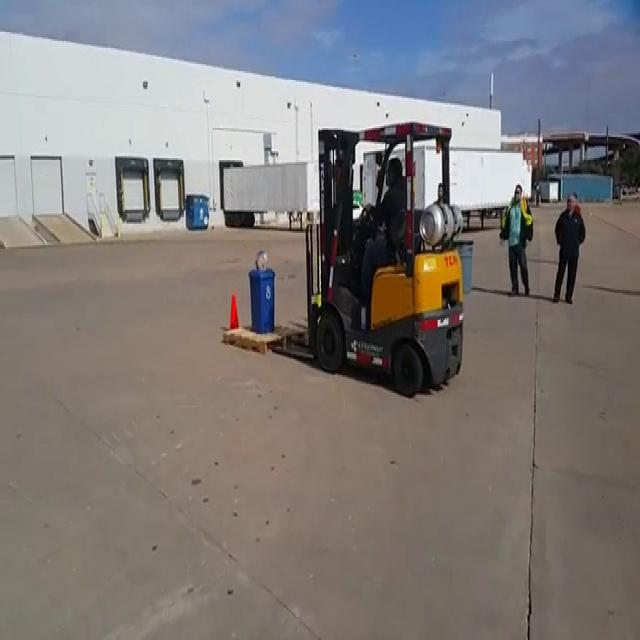Chariot elevateur: (300, 116, 472, 402)
